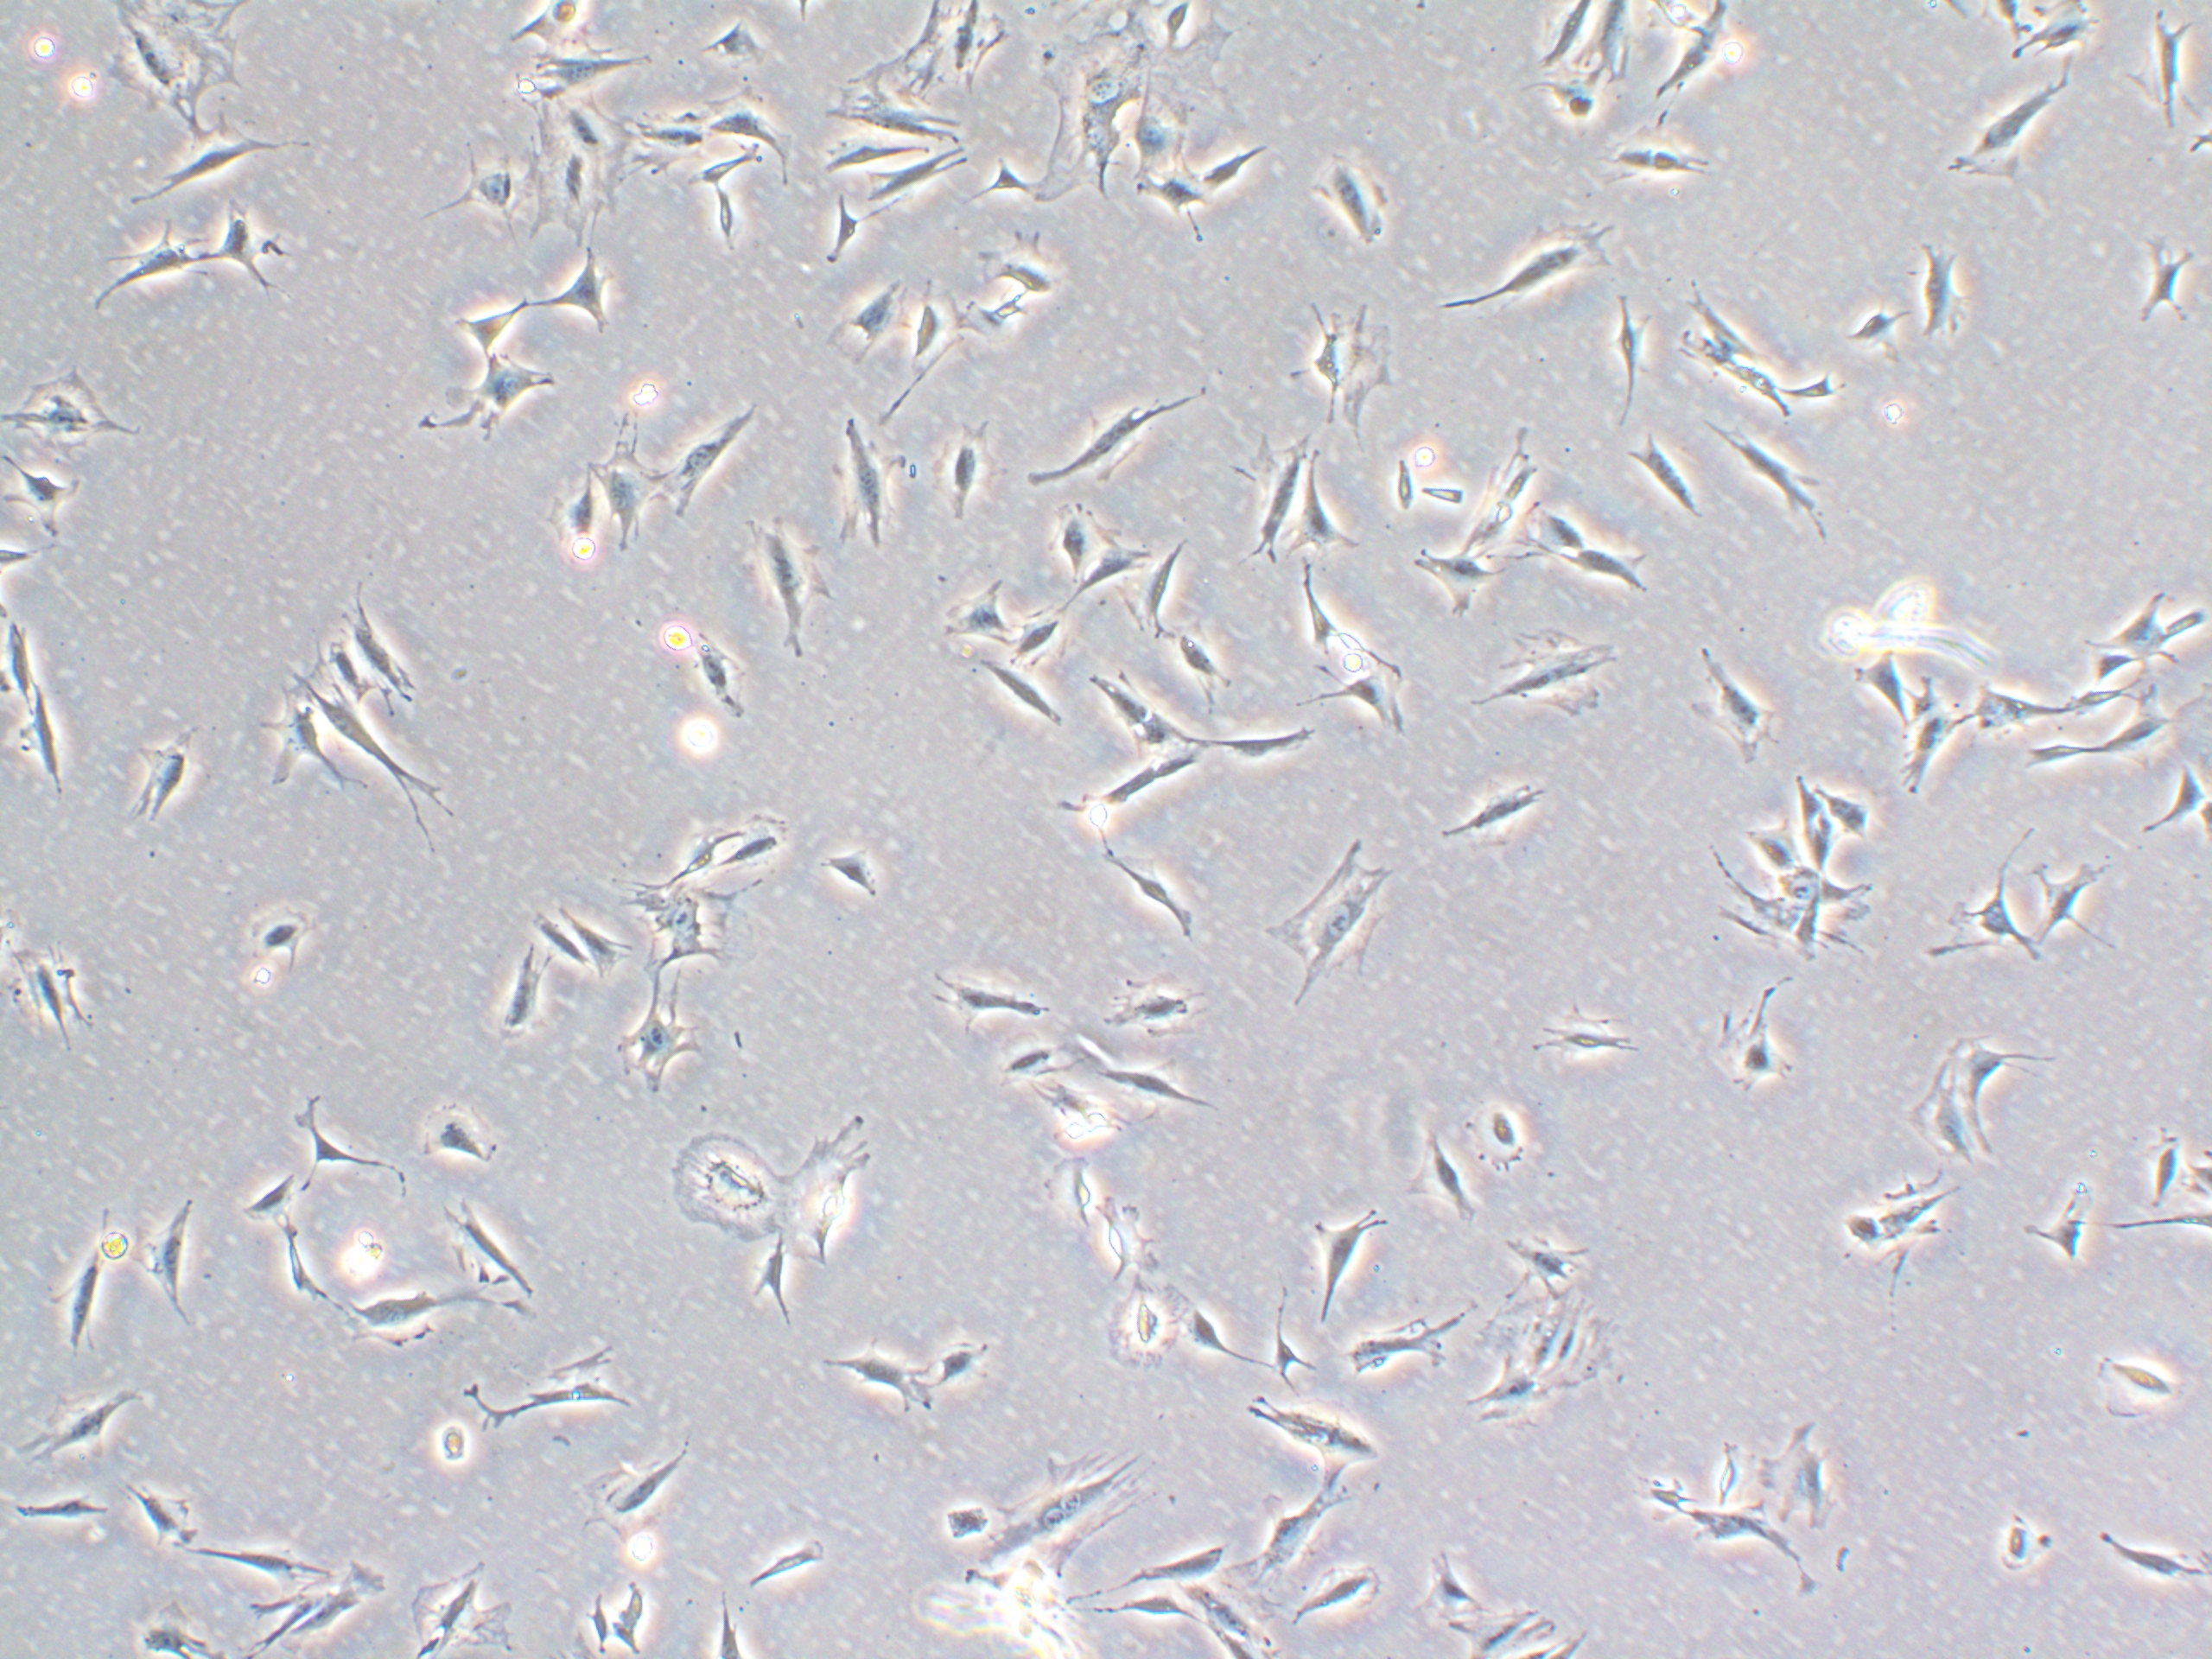small: (1461, 1077, 1550, 1178), (1993, 1493, 2066, 1605), (1378, 450, 1432, 523), (1416, 472, 1465, 511)
spread: (655, 1086, 880, 1288), (1244, 819, 1411, 1026), (968, 1434, 1160, 1601), (1444, 1270, 1646, 1425), (1723, 1415, 1888, 1551), (1014, 23, 1134, 207), (1263, 293, 1413, 441), (625, 870, 770, 1023), (106, 0, 275, 131), (521, 85, 650, 244), (1475, 617, 1639, 723), (1146, 21, 1233, 186)
